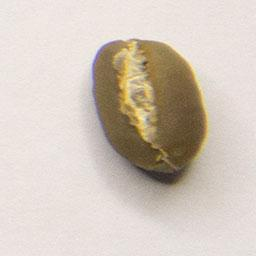peaberry: (89, 34, 211, 180)
